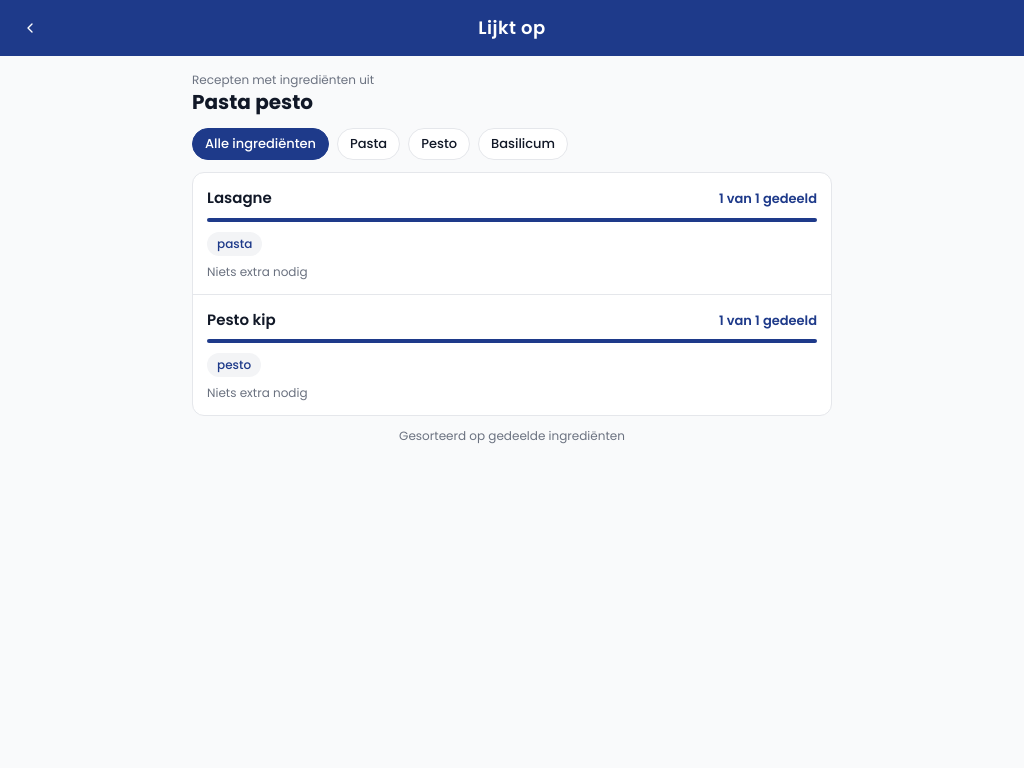
Test case: SimilarRecipesClient › narrows to recipes using one ingredient when its chip is tapped, and back again
Click the button "pesto".
click(439, 144)  # box [408, 128, 470, 160]
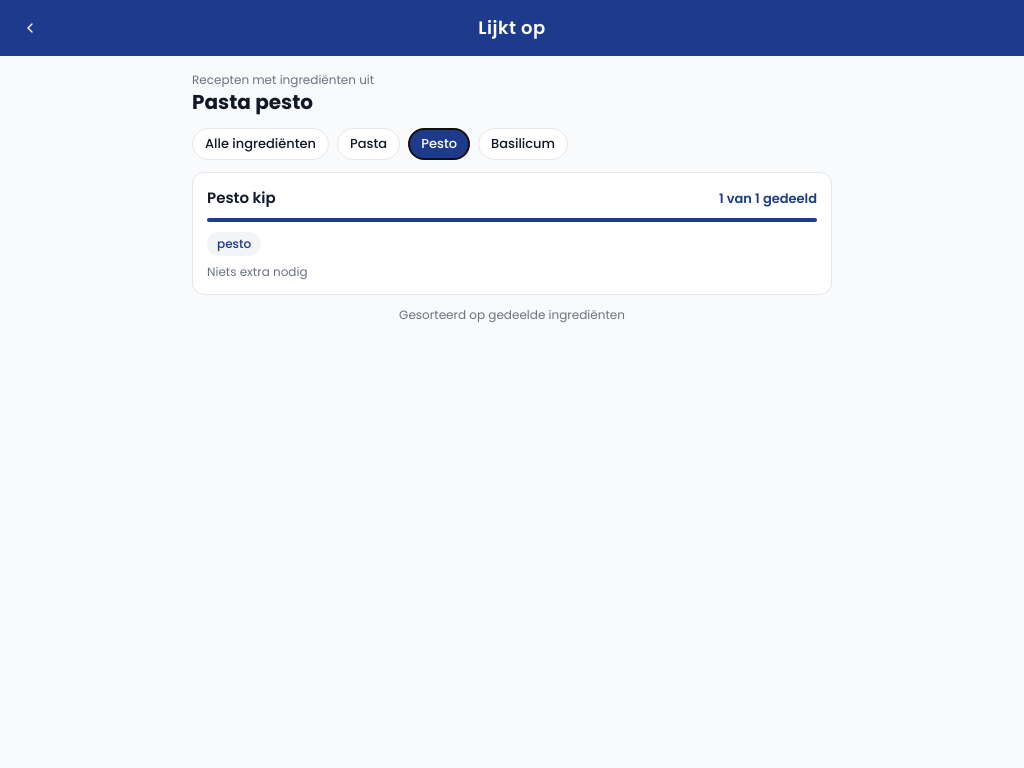
Expected: the text "Pesto kip" is shown, [207, 187, 276, 210]
Result: the link "Lasagne" is gone
Click the button "Alle ingrediënten".
click(260, 144)  # box [192, 128, 329, 160]
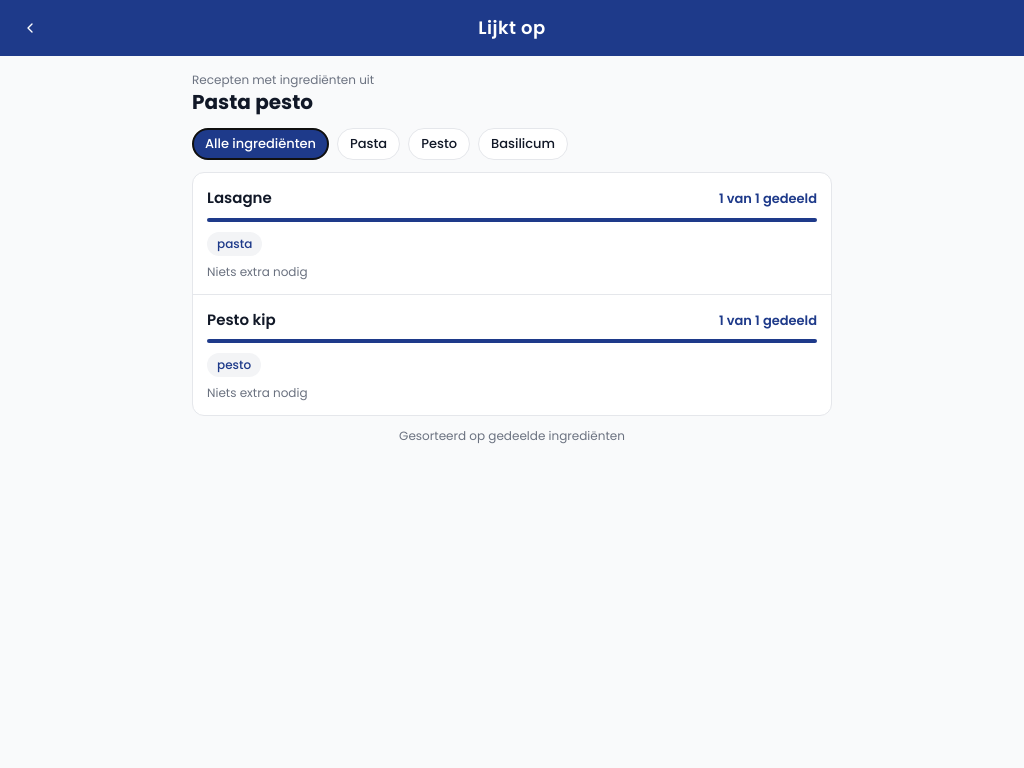
Result: the text "Lasagne" is shown at [207, 187, 272, 210]
